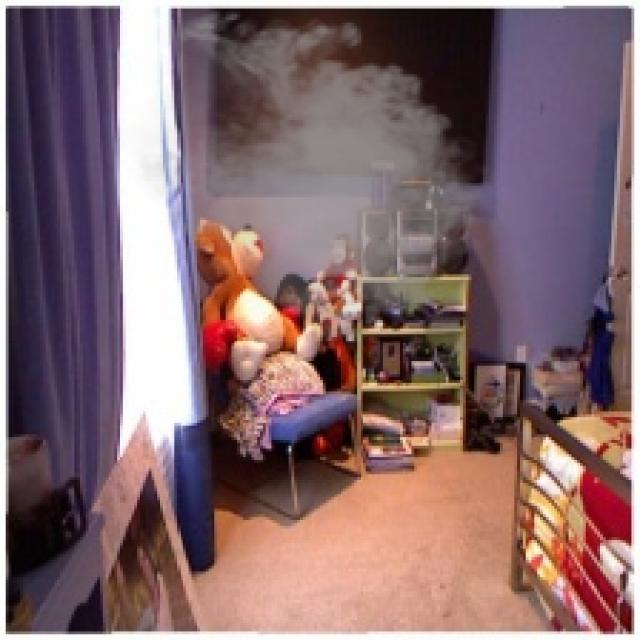smoke: (114, 0, 503, 346)
